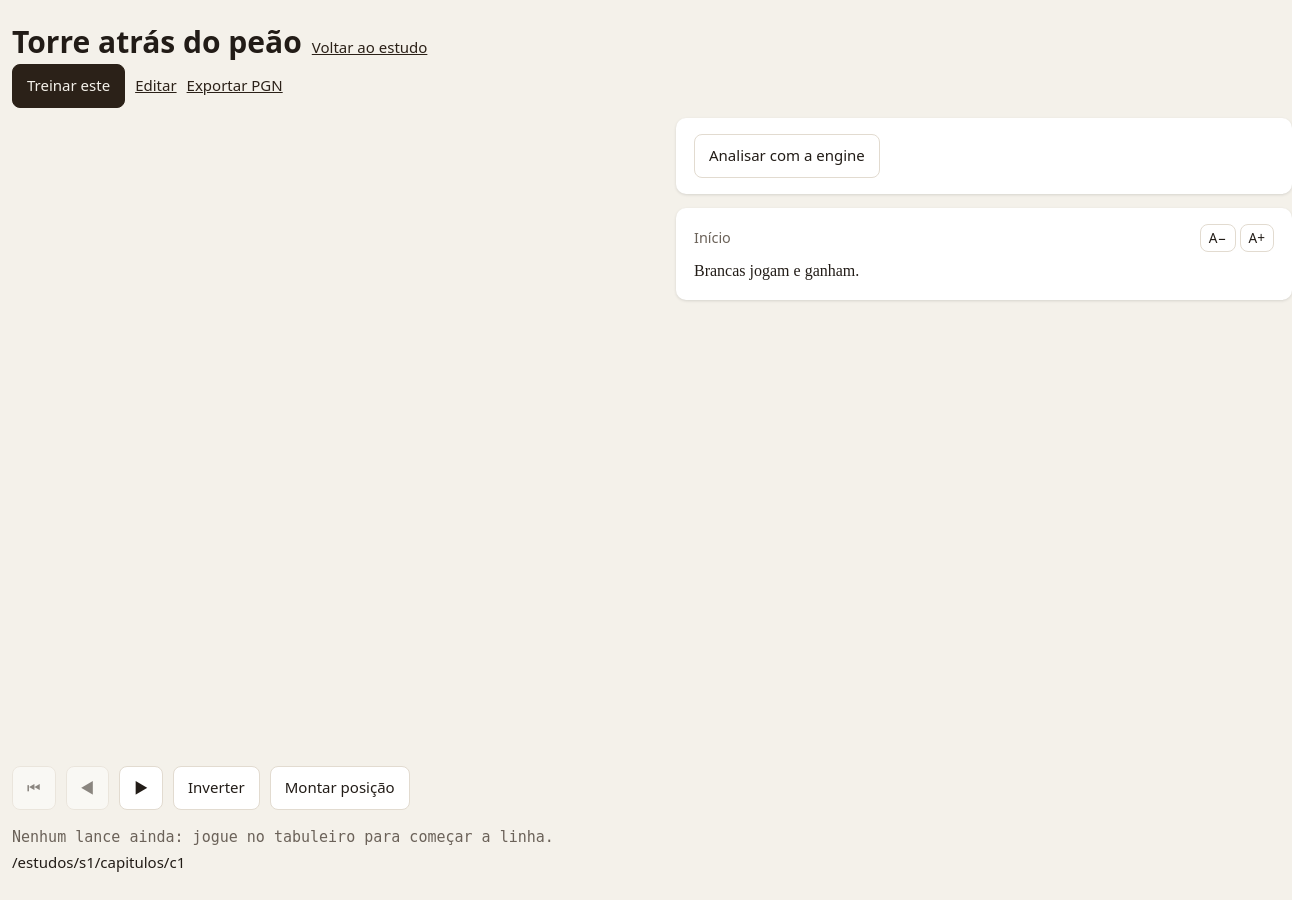
Test: o painel do motor mostra por que a engine não analisa o diagrama
The width and height of the screenshot is (1292, 900).
Click the button "Analisar com a engine".
click(787, 156)  # box [694,134,880,178]
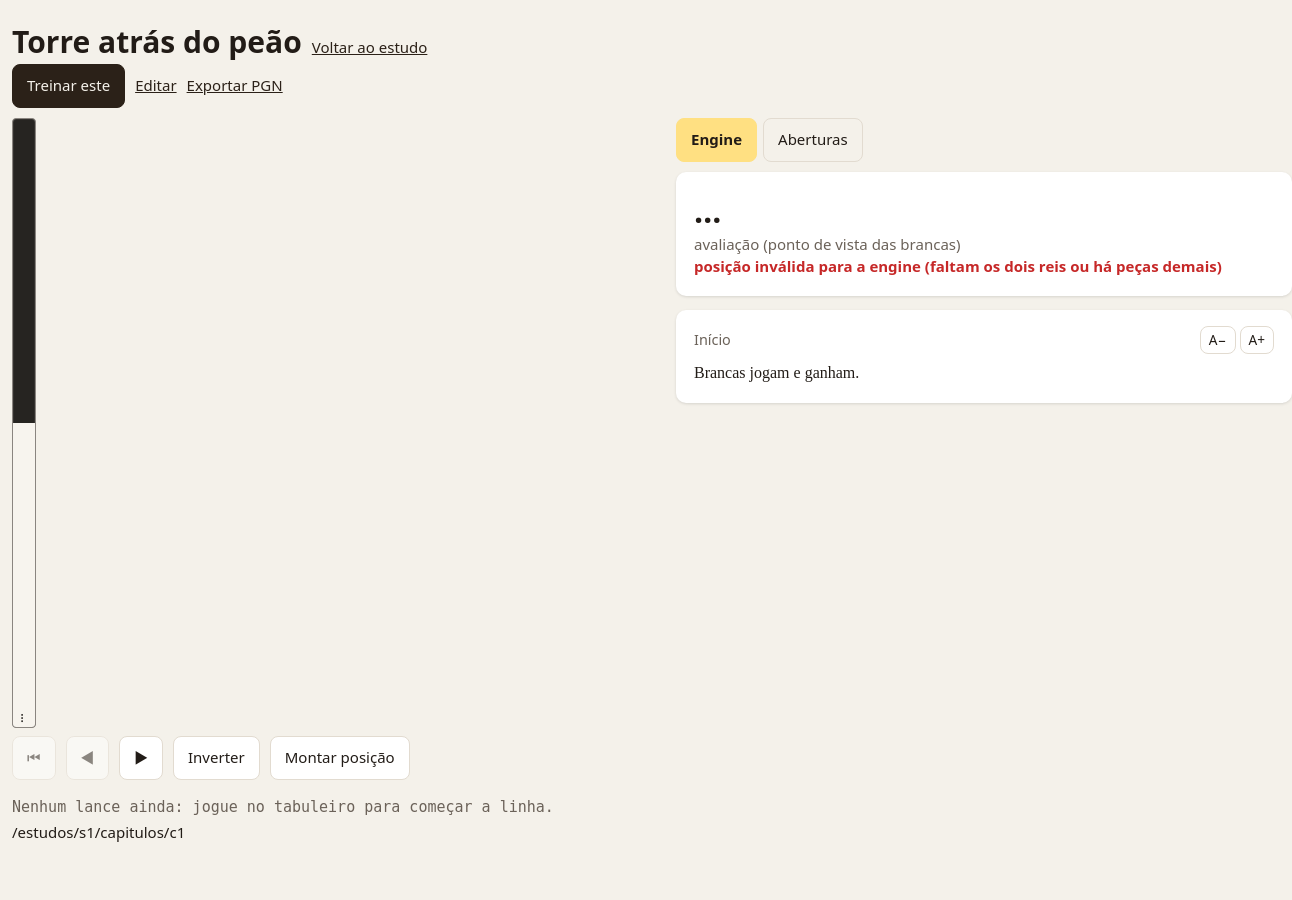
Expected: the text "posição inválida para a engine (faltam os dois reis ou há peças demais)" is shown, [694,256,1274,280]
